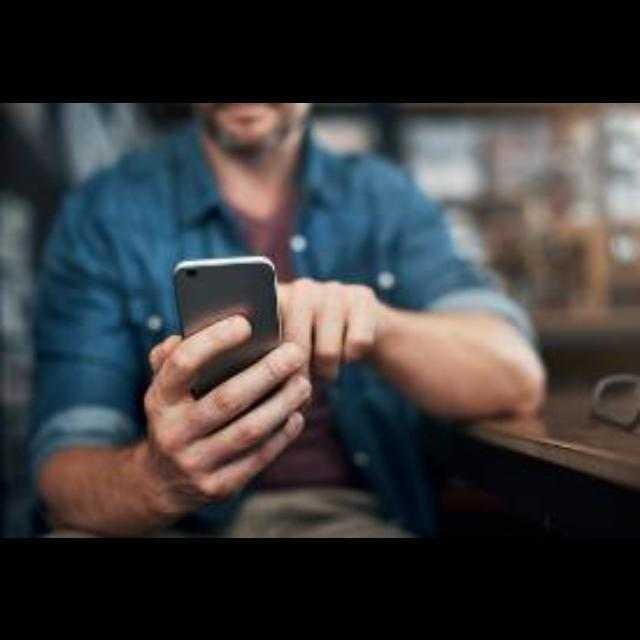phone: (147, 224, 311, 423)
